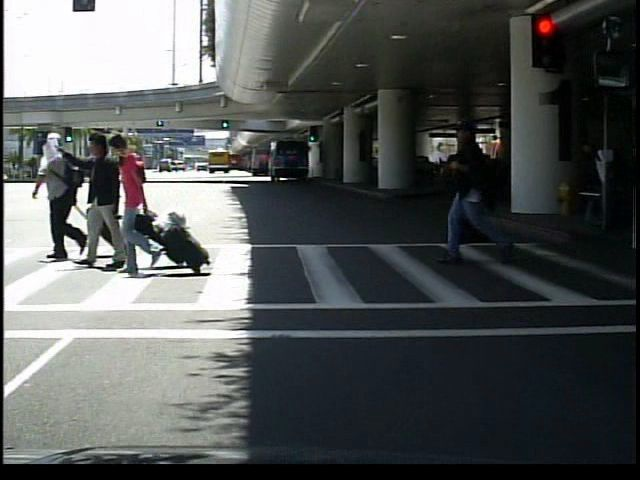person: (440, 113, 518, 265)
